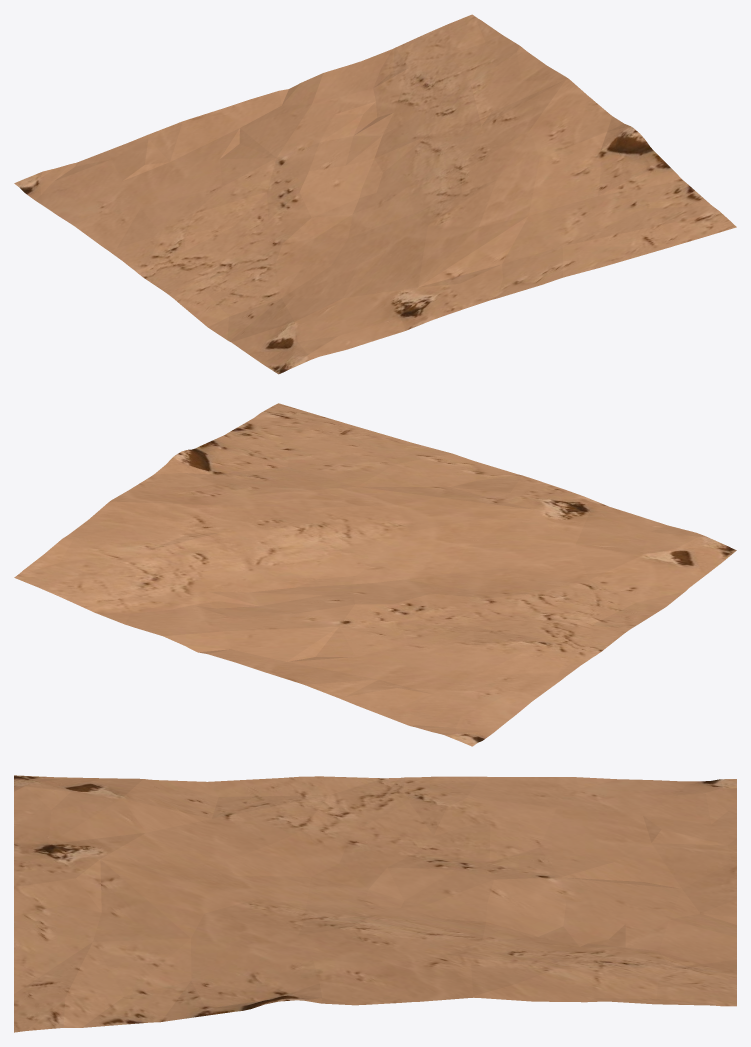
The picture shows the model from 3 angles, top to bottom: view 1: azimuth 30°, elevation 25°; view 2: azimuth 150°, elevation 25°; view 3: azimuth 270°, elevation 25°; orthographic projection. The views are drawn at different scales.
Bounding box in the file's own units: 1.04 × 0.1428 × 1.04.
Materials: 2 (2 with a texture image).
